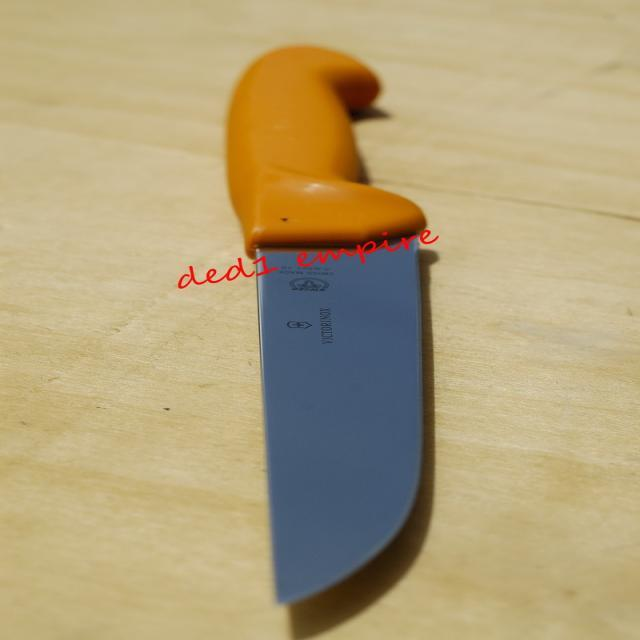Pisau: (187, 43, 460, 620)
